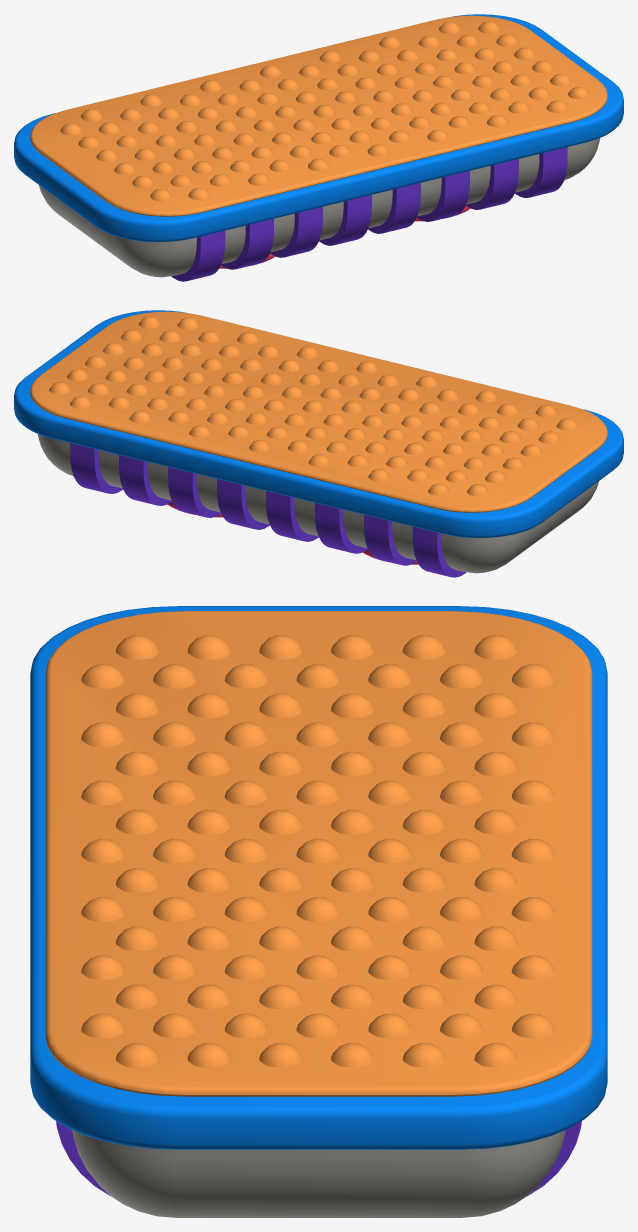
The model's file is moving_platform.fbx.
3 views of the same model, one above another, from view 1: azimuth 30°, elevation 25°; view 2: azimuth 150°, elevation 25°; view 3: azimuth 270°, elevation 25° (orthographic). The views are drawn at different scales.
Parts seen in each view (by area): view 1: platform_top, platform; view 2: platform_top, platform; view 3: platform_top, platform.
Part boxes in pixels (left/top/right/bottom): platform_top: left=30, top=15, right=607, bottom=216; platform: left=14, top=14, right=623, bottom=281; platform_top: left=30, top=311, right=607, bottom=512; platform: left=14, top=310, right=623, bottom=577; platform_top: left=45, top=611, right=592, bottom=1096; platform: left=30, top=606, right=607, bottom=1217.
Bounding box in the file's own units: 267 × 54.51 × 128.
